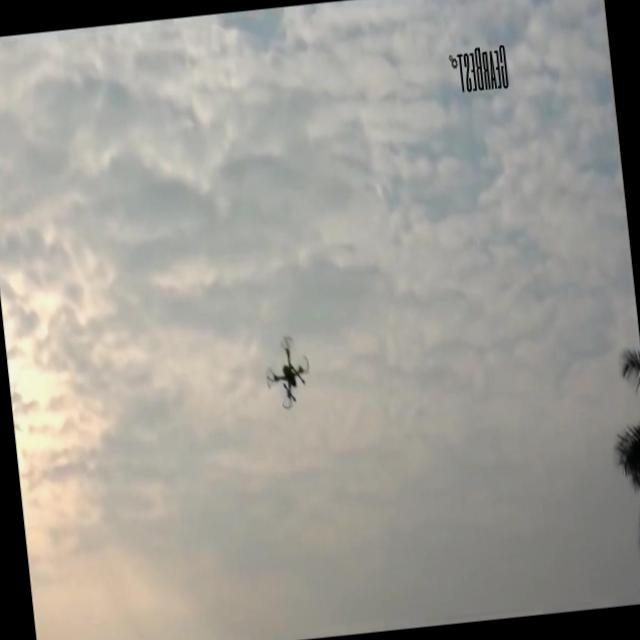drone: (260, 332, 314, 414)
